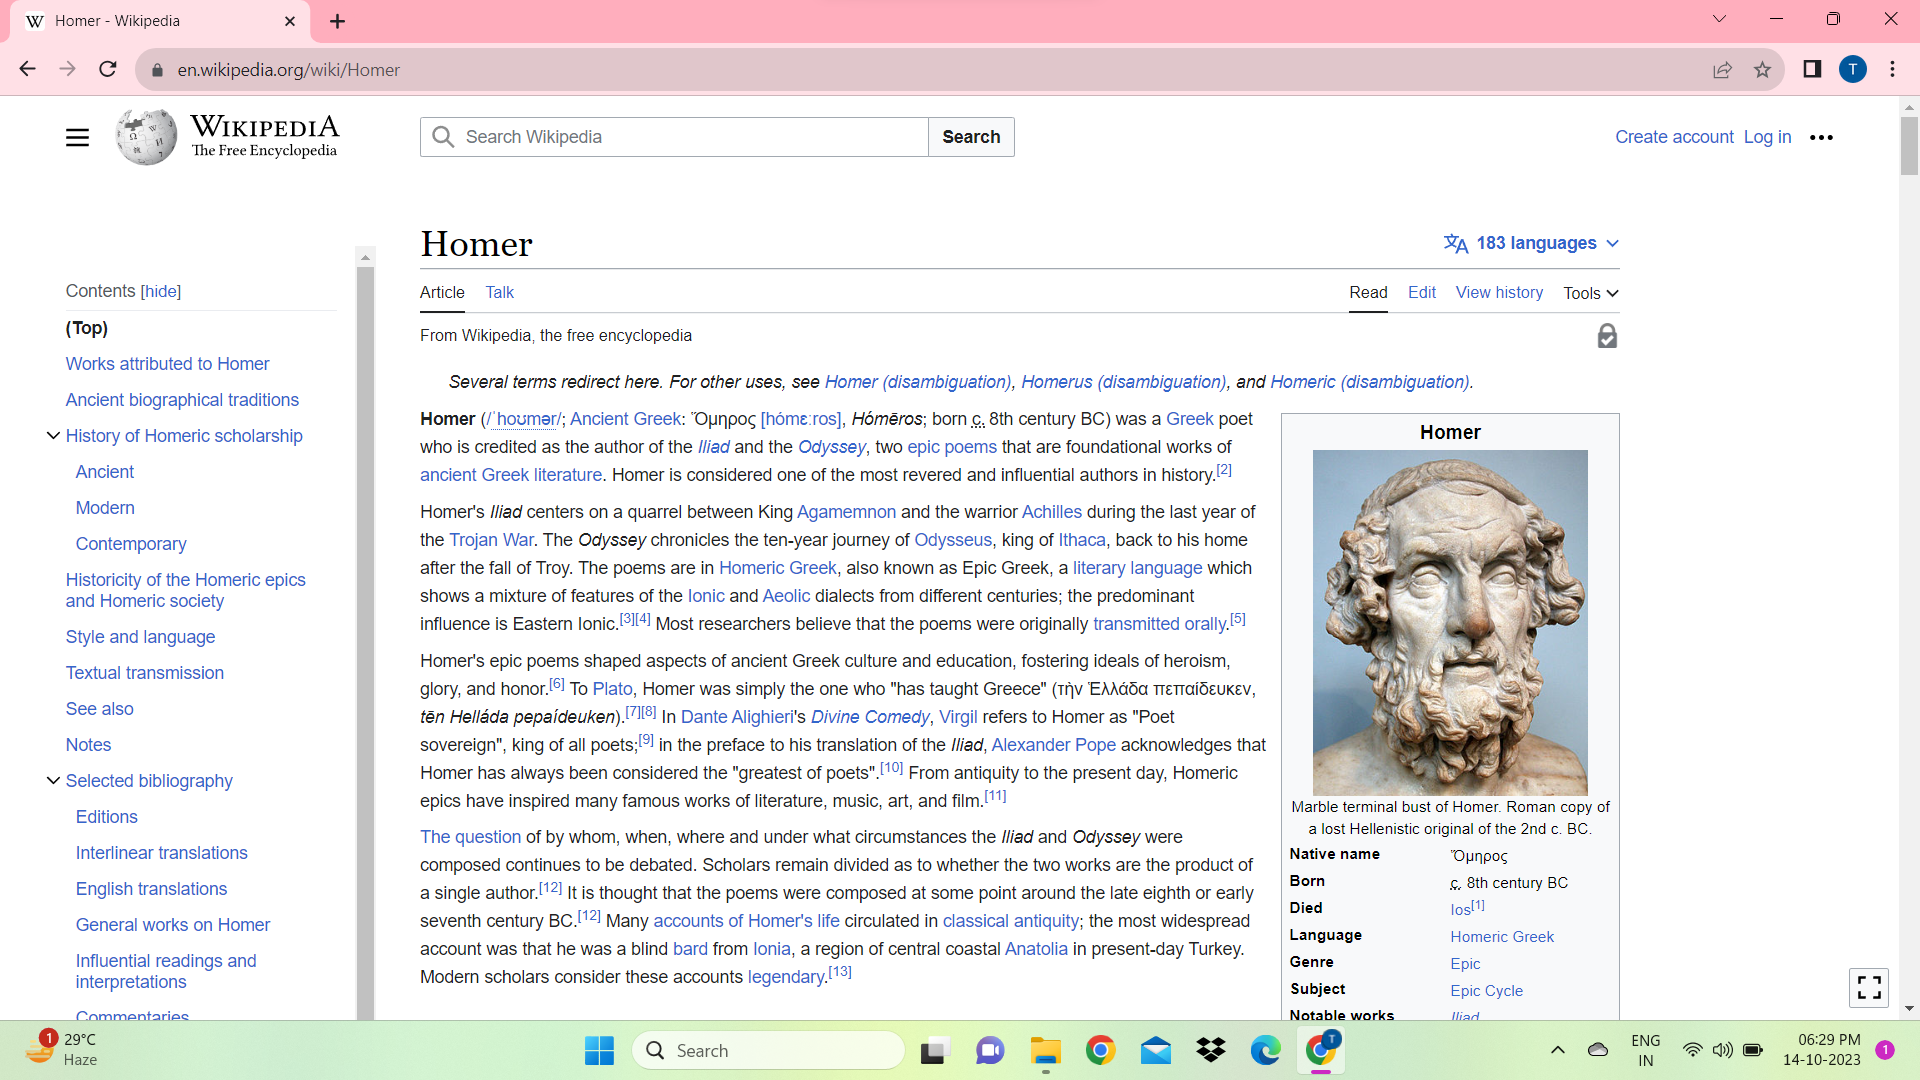Image: (1296, 440, 1598, 800)
Paragraph: (411, 824, 1276, 993), (418, 649, 1266, 815), (411, 498, 1273, 644), (411, 401, 1266, 489), (438, 364, 1482, 401), (410, 322, 723, 353), (67, 945, 272, 993), (65, 418, 313, 454), (61, 574, 313, 608), (58, 347, 276, 384), (404, 218, 550, 265), (58, 651, 228, 688), (58, 767, 235, 796), (61, 624, 220, 651), (61, 393, 299, 411), (75, 913, 274, 934), (67, 874, 231, 899), (1400, 404, 1490, 447), (71, 530, 194, 556), (1283, 841, 1395, 868), (1452, 278, 1549, 302), (1443, 876, 1573, 893), (58, 311, 128, 340), (67, 848, 255, 858), (69, 492, 140, 520), (74, 803, 149, 827), (1331, 281, 1402, 305), (1443, 844, 1514, 868), (1435, 927, 1560, 940), (1283, 927, 1370, 945), (71, 462, 146, 483), (62, 696, 140, 716), (57, 729, 123, 750), (1441, 980, 1532, 994), (1286, 949, 1348, 971), (411, 281, 481, 299), (1561, 278, 1604, 306), (1286, 981, 1360, 997), (1404, 278, 1448, 305), (485, 281, 526, 306), (1283, 872, 1337, 889), (1445, 902, 1499, 916), (1286, 898, 1337, 913), (1448, 953, 1489, 967)
